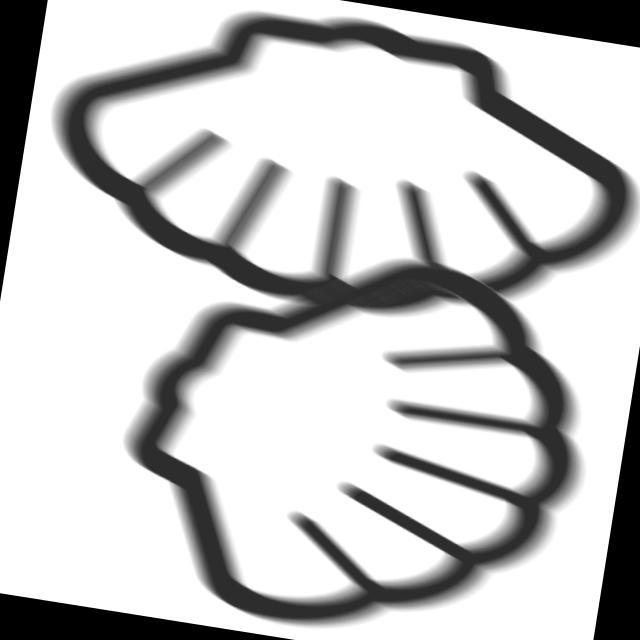shell: (84, 206, 626, 640), (17, 1, 640, 367)
